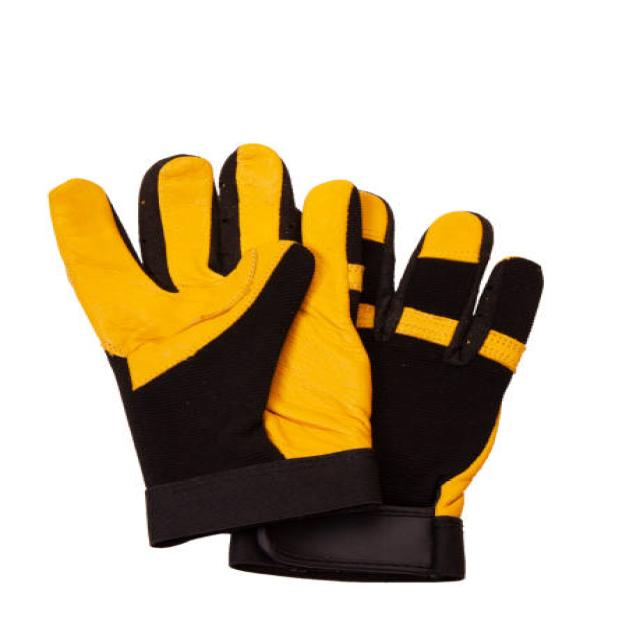Gloves: (48, 135, 564, 596)
